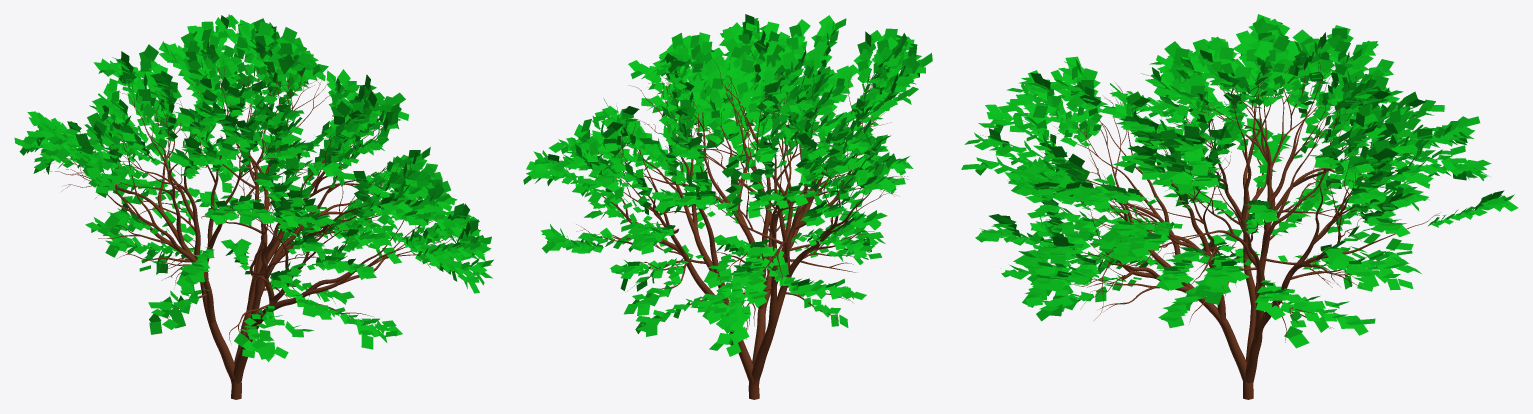
File: tree.fbx
The picture shows the model from 3 angles, left to right: view 1: azimuth 30°, elevation 25°; view 2: azimuth 150°, elevation 25°; view 3: azimuth 270°, elevation 25°; orthographic projection. The views are drawn at different scales.
Parts seen in each view (by area): view 1: leaves, tree; view 2: leaves, tree; view 3: leaves, tree.
Part boxes in pixels (x1,y1,x2,y2): leaves: (14,14,493,361); tree: (44,55,464,399); leaves: (523,14,932,356); tree: (548,54,908,399); leaves: (961,14,1518,348); tree: (1041,51,1445,399).
Bounding box in the file's own units: 966 × 944 × 1375.
